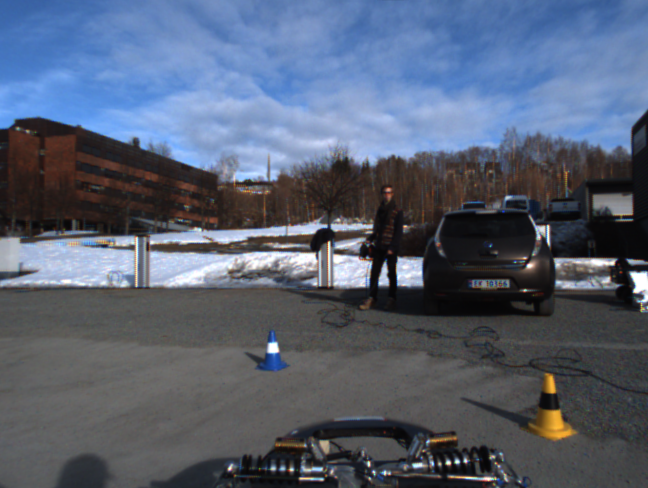cone-small-blue: (255, 329, 289, 371)
cone-small-yellow: (521, 372, 576, 441)
